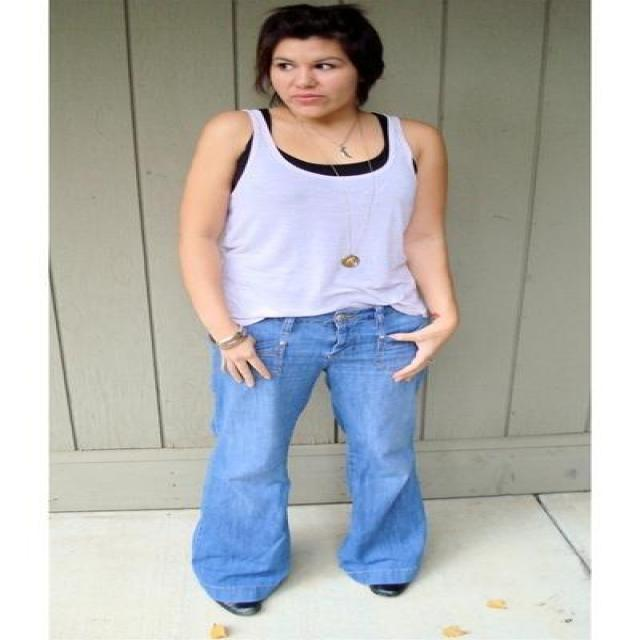pants: (192, 304, 434, 601)
shirt: (224, 96, 426, 324)
shoe: (216, 576, 414, 615)
